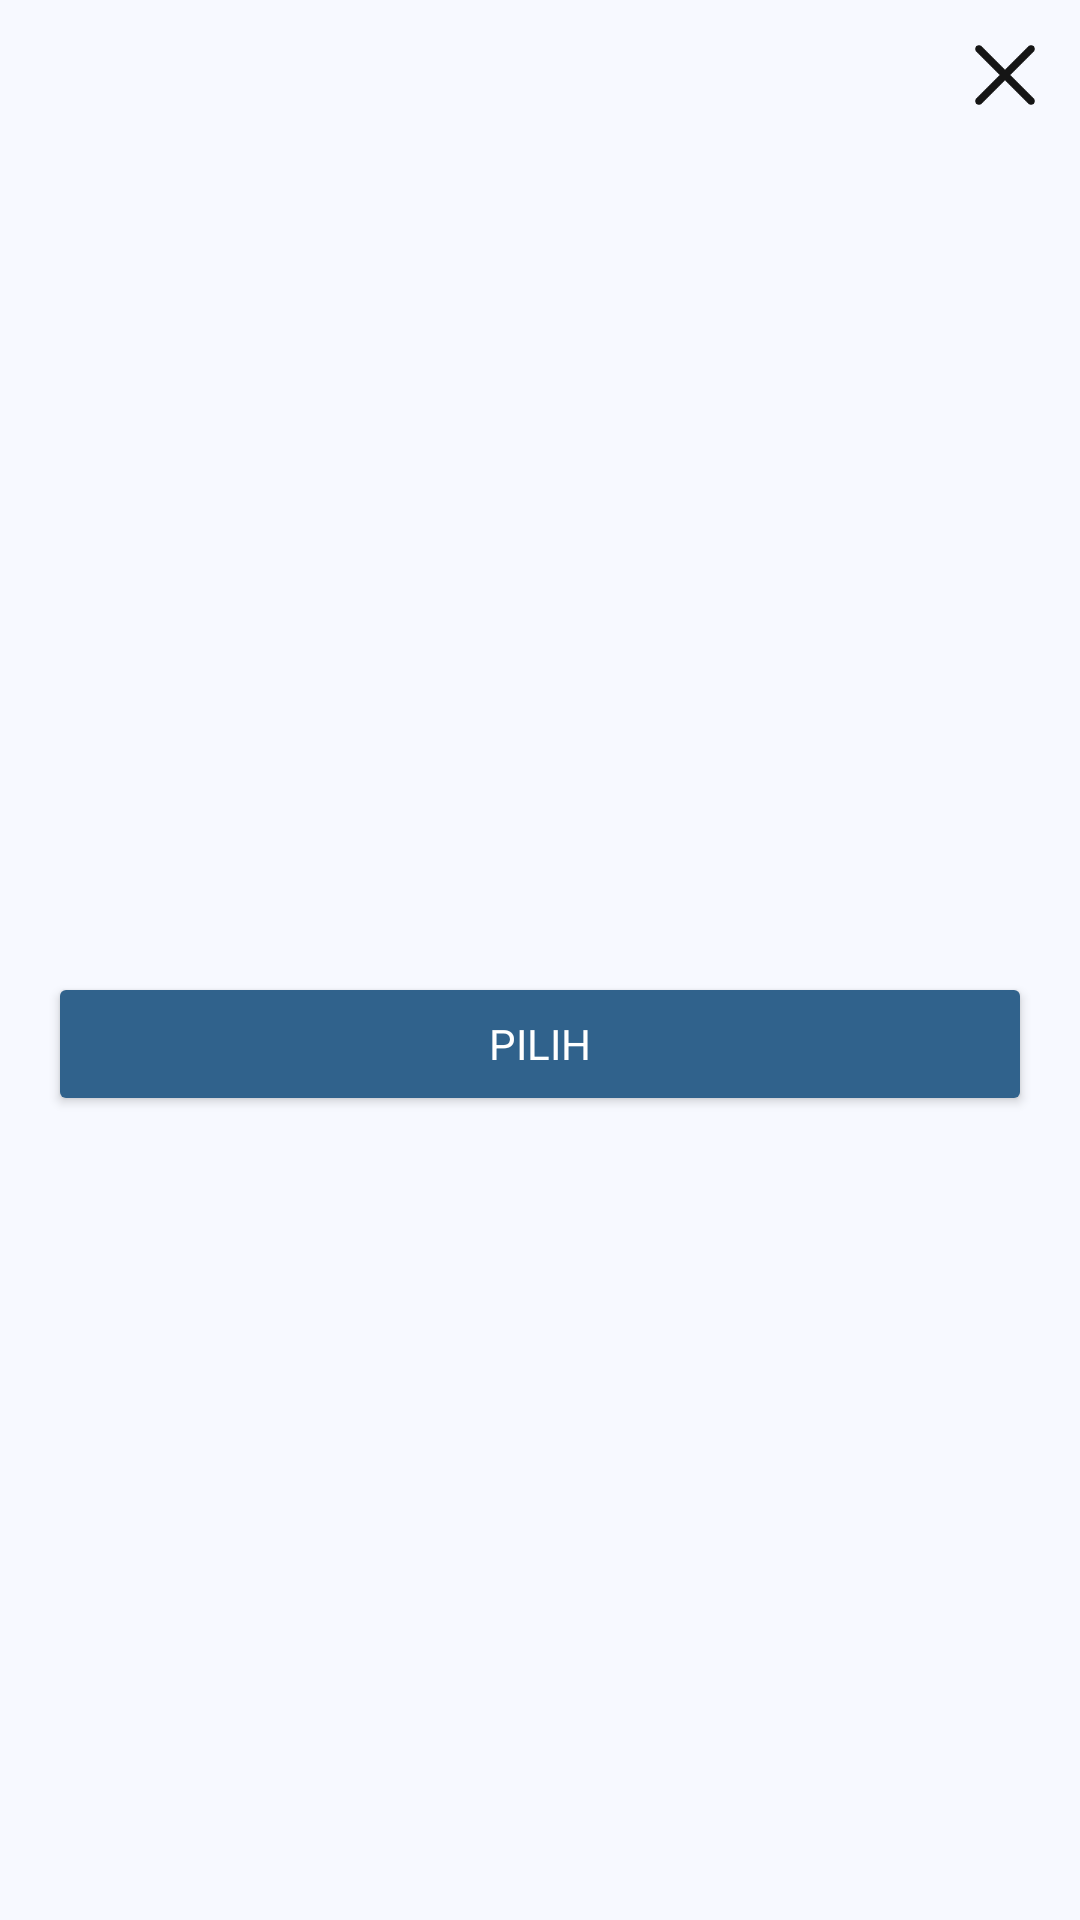

Point at icon controls on the screen. Image size 1080px×1920px, points as (x=x, y=y).
close: (x=1005, y=75)
